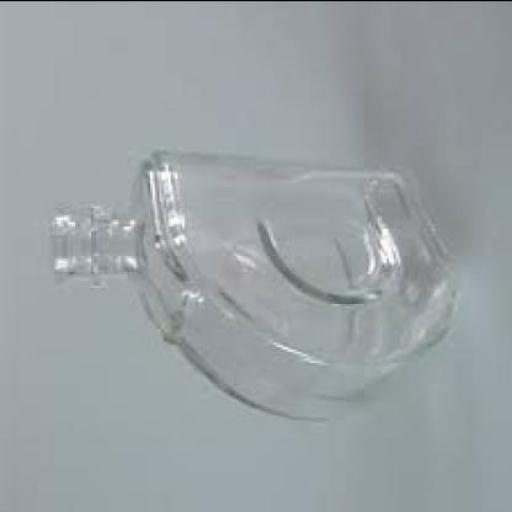glass: (50, 146, 455, 416)
